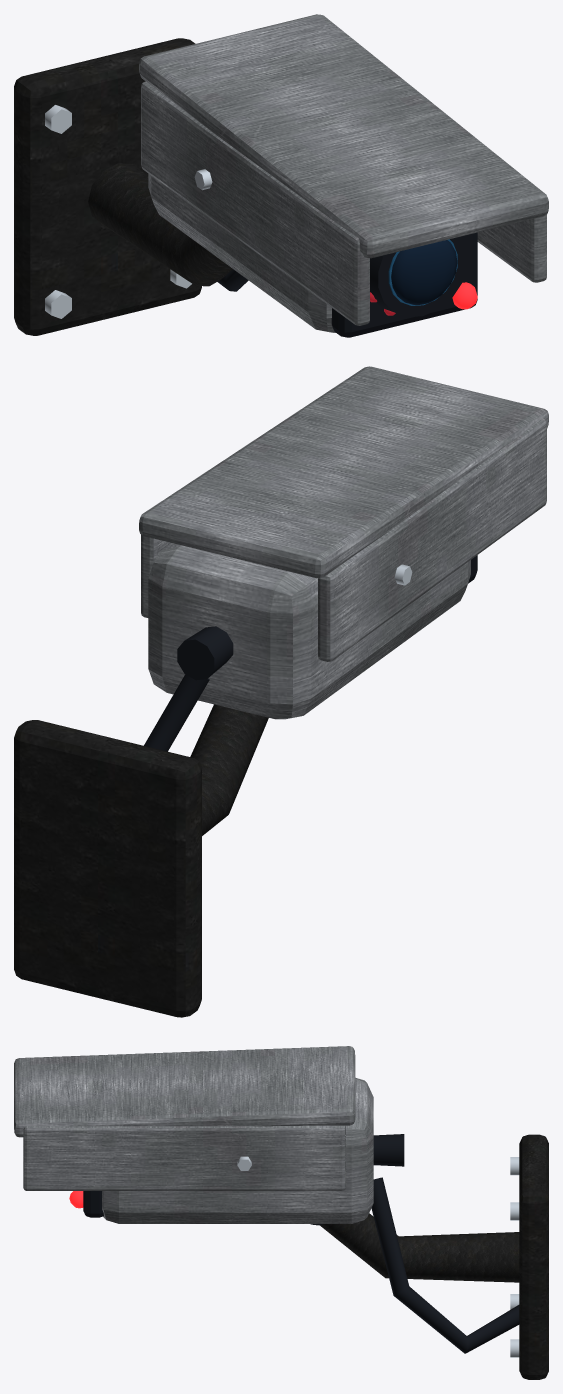
The model's file is security_camera.glb.
The picture shows the model from 3 angles, top to bottom: view 1: azimuth 30°, elevation 25°; view 2: azimuth 150°, elevation 25°; view 3: azimuth 270°, elevation 25°; orthographic projection. The views are drawn at different scales.
Parts seen in each view (by area): view 1: Camera_Head, Camera_Mount, Camera_LED; view 2: Camera_Head, Camera_Mount; view 3: Camera_Head, Camera_Mount.
Part boxes in pixels (x1,y1,x2,y2): Camera_Head: [139, 14, 548, 337]; Camera_Mount: [14, 38, 248, 335]; Camera_LED: [452, 282, 477, 309]; Camera_Head: [139, 366, 548, 719]; Camera_Mount: [14, 674, 268, 1017]; Camera_Head: [14, 1046, 404, 1223]; Camera_Mount: [310, 1134, 548, 1379].
Size of the model in its own units: 0.1928 by 0.3277 by 0.58.
Materials: 8 (2 with a texture image).
